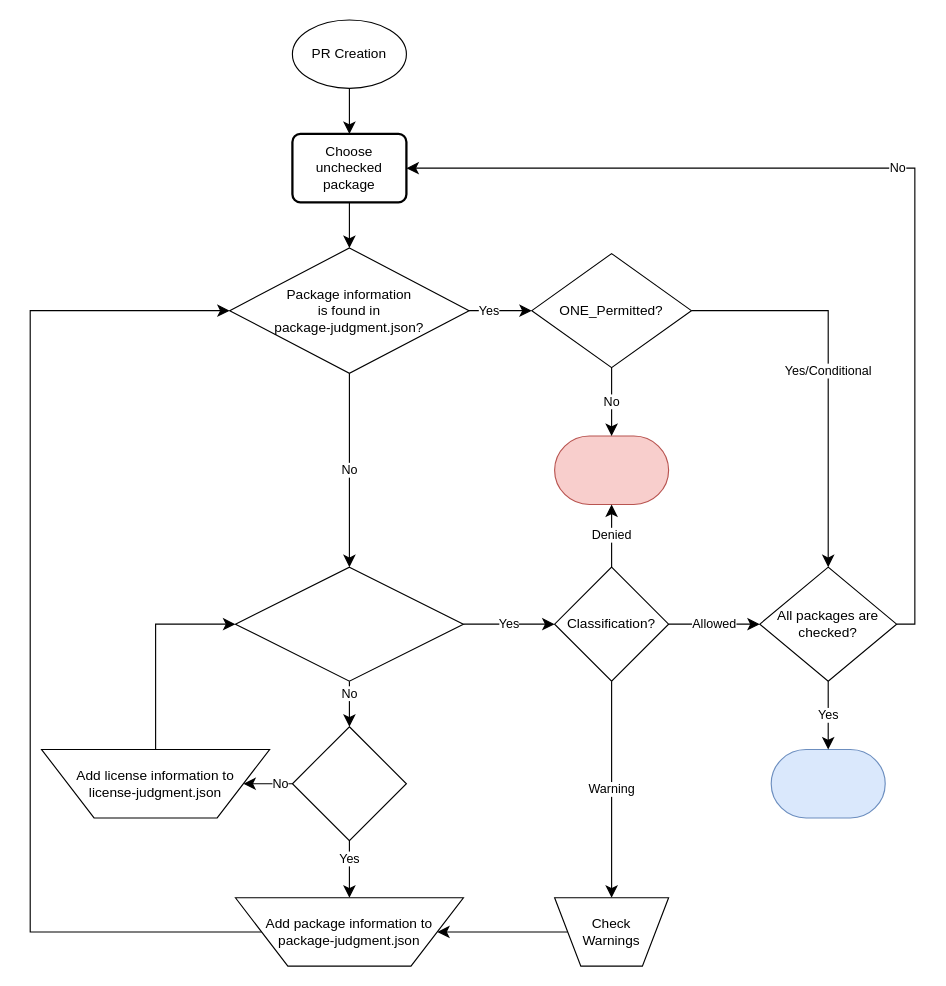
This 946x986 diagram has some shape labels left out. The shapes that lost their labels are listed below. From the top down, each one's centre as x and y in pixels, then its label:
pixel 611 469: FAIL
pixel 348 623: License information is found in license-judgment.json?
pixel 348 783: License is UNKNOWN?
pixel 827 783: PASS
